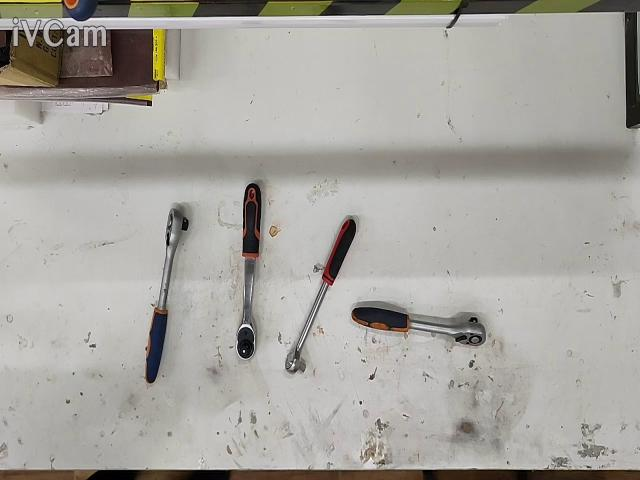Ratchet: (285, 217, 356, 373), (145, 208, 189, 383), (351, 307, 486, 346), (235, 183, 261, 359)
